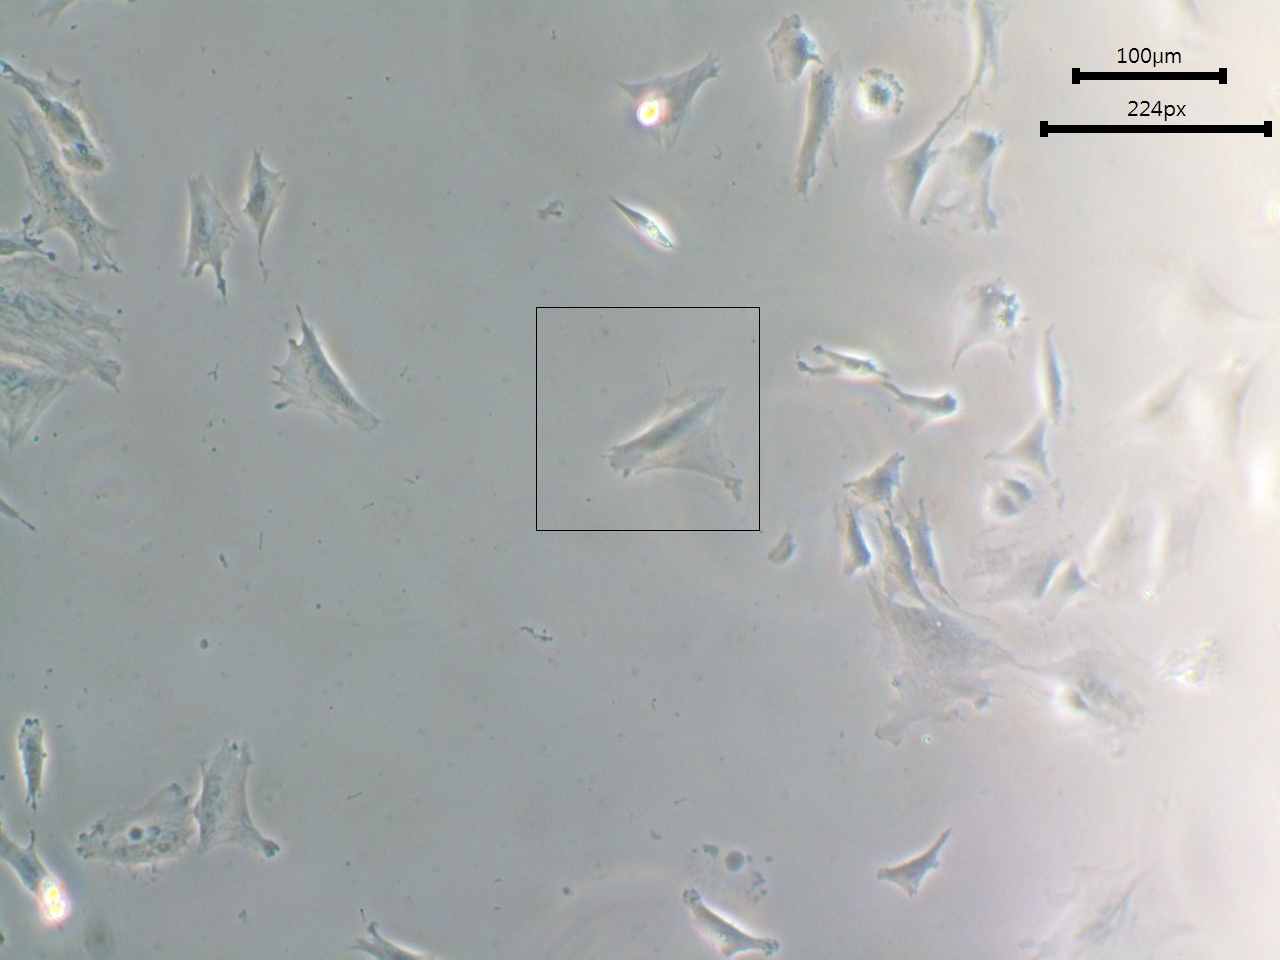dividing: (191, 733, 287, 870)
medium-polygonal: (263, 293, 390, 446), (4, 50, 134, 174), (800, 63, 841, 201)
medium-spread: (855, 578, 1026, 768), (55, 775, 201, 880)
small-polygonal: (608, 44, 730, 162), (230, 148, 297, 282), (854, 820, 959, 899), (172, 173, 238, 299), (672, 889, 788, 960), (893, 498, 962, 596), (1034, 317, 1086, 434), (793, 334, 892, 389), (883, 375, 969, 439), (15, 709, 61, 825), (874, 507, 928, 605), (985, 410, 1060, 479), (827, 498, 878, 582)
small-spread: (957, 266, 1027, 368), (763, 12, 826, 89), (851, 65, 907, 123)
spindle: (598, 190, 676, 256)
